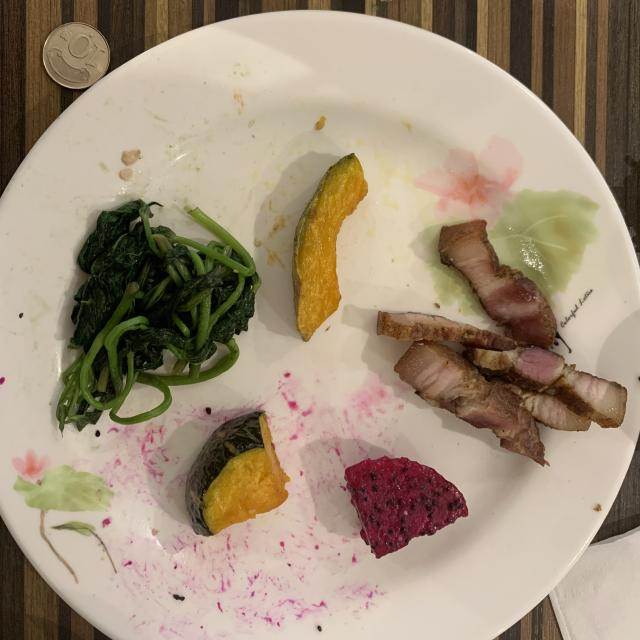coin: (42, 22, 110, 89)
grilled pork: (378, 220, 628, 465)
pumpkin: (292, 154, 368, 341), (185, 411, 290, 536)
sweet potato leaves: (56, 200, 260, 431)
